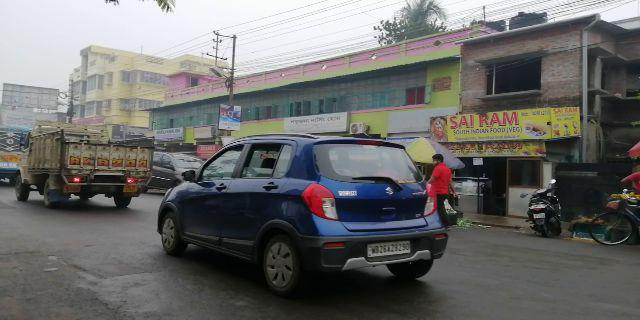Car: (159, 134, 447, 293)
Truck: (27, 122, 153, 209)
